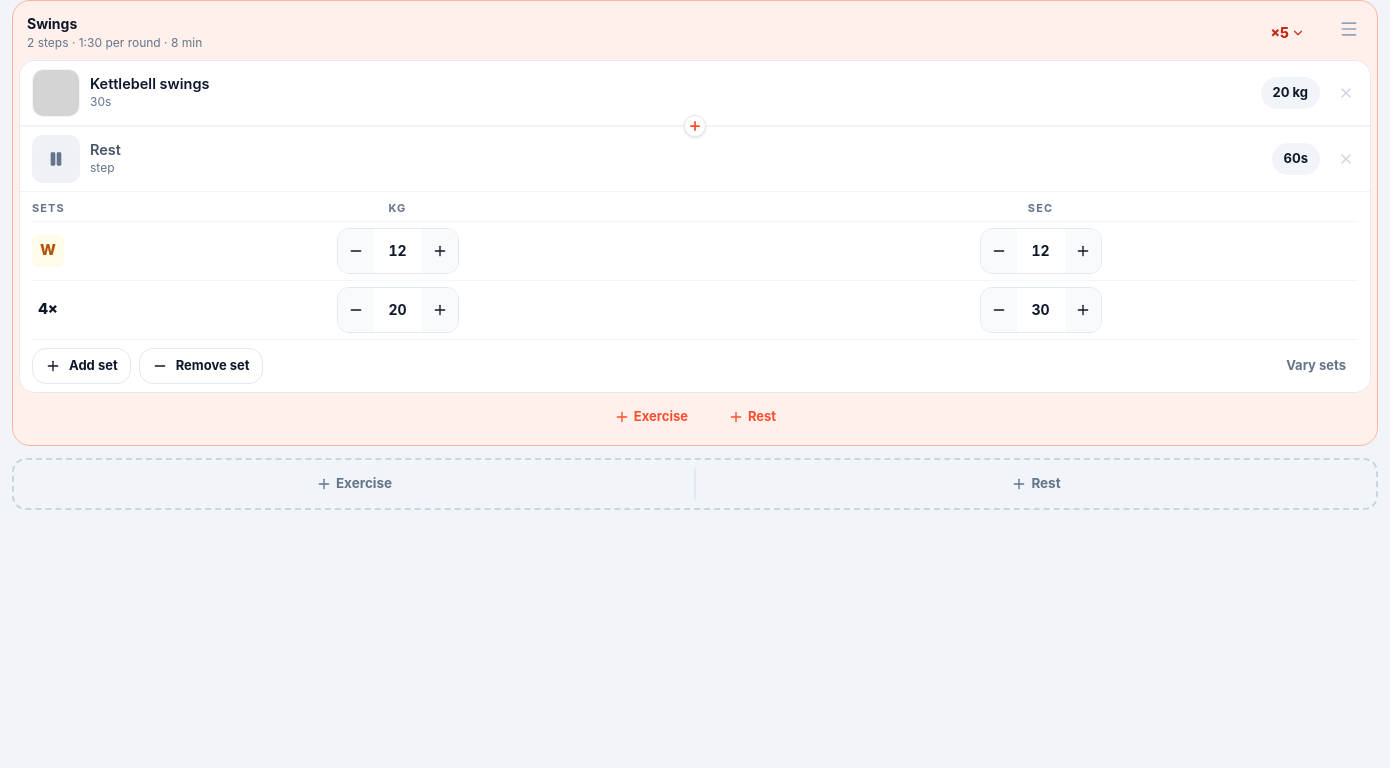
Scenario: sets in the editor › shows a warm-up and 4 working sets as two rows; Vary sets shows every set
Click the button "Vary sets" at coordinates (1316, 366), box x1=1274 y1=348 x2=1358 y2=384
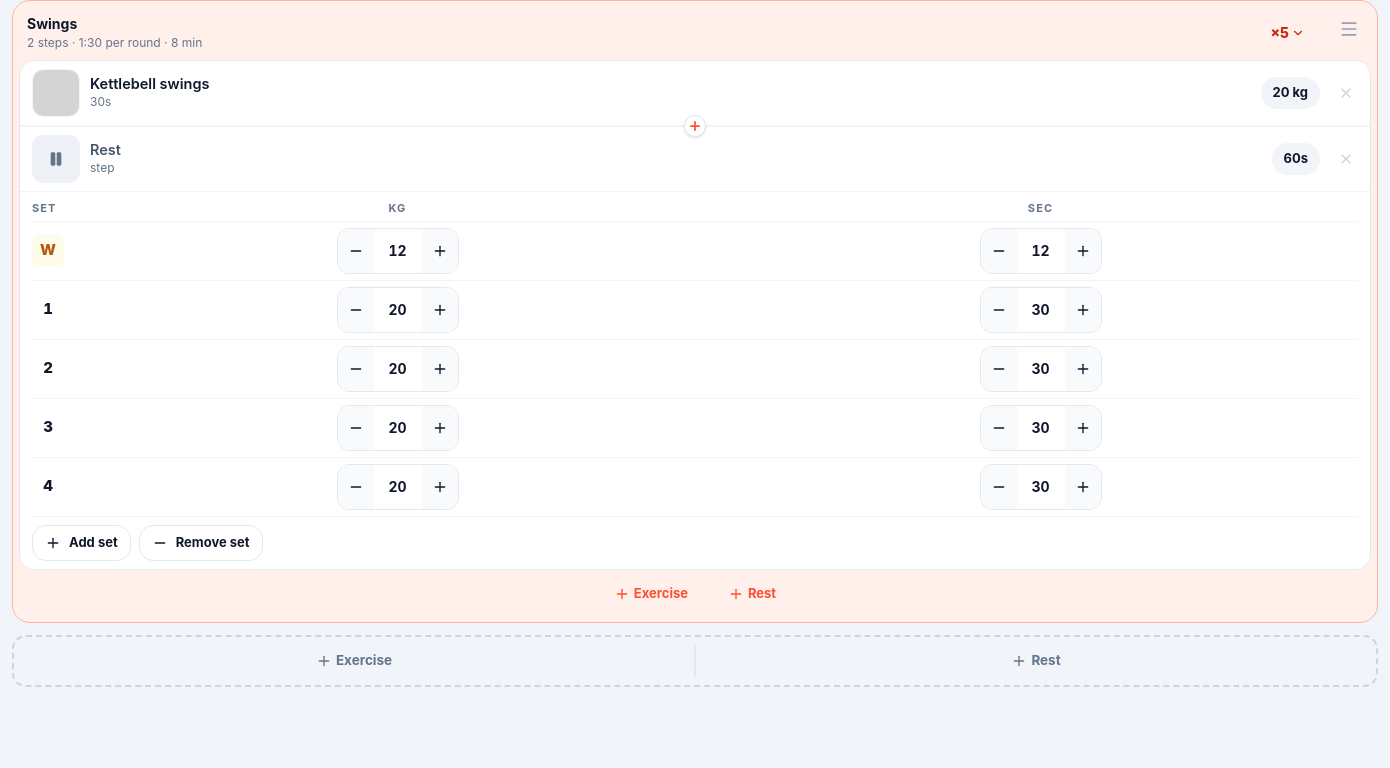
Check: the number of buttons "W" is 5, box x1=32 y1=234 x2=64 y2=266; x1=32 y1=294 x2=64 y2=326; x1=32 y1=352 x2=64 y2=384; x1=32 y1=412 x2=64 y2=444; x1=32 y1=470 x2=64 y2=502
